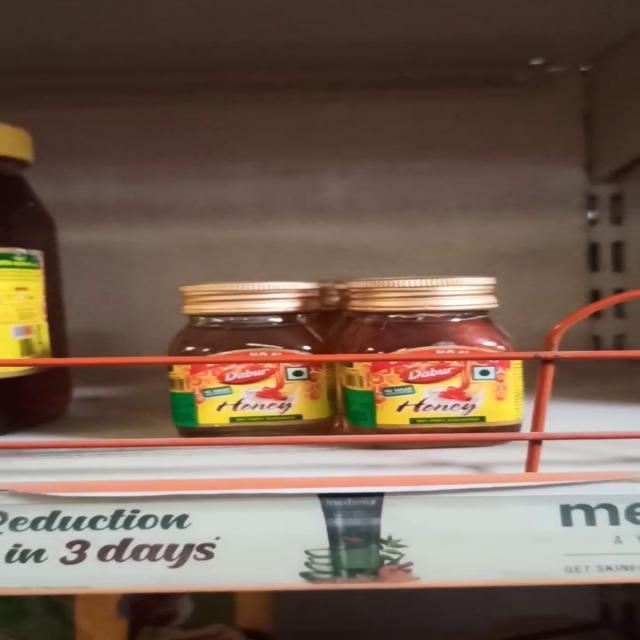Dabur Honey: (178, 283, 354, 436), (354, 282, 526, 428)
